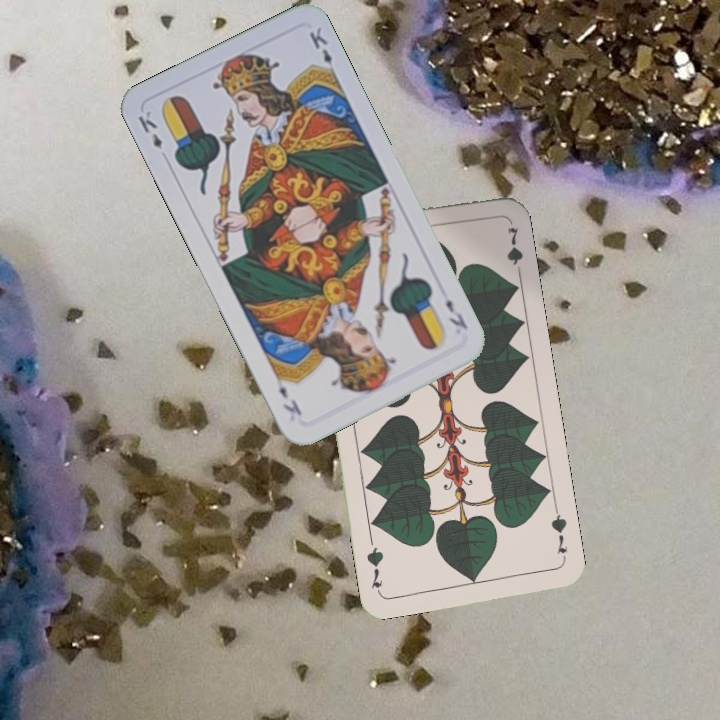EK: (134, 106, 165, 151), (441, 294, 471, 332)
G7: (547, 505, 570, 564)
